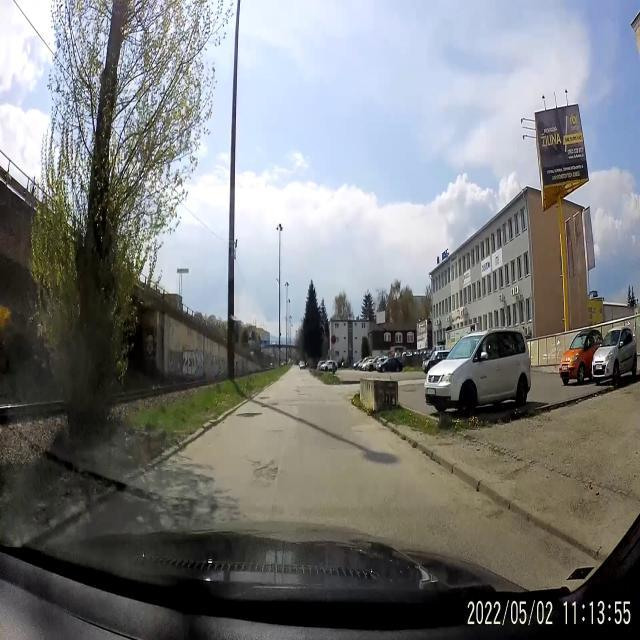Pothole: (250, 455, 284, 487), (232, 409, 262, 418), (290, 386, 308, 400), (262, 396, 278, 409), (299, 378, 311, 382)
